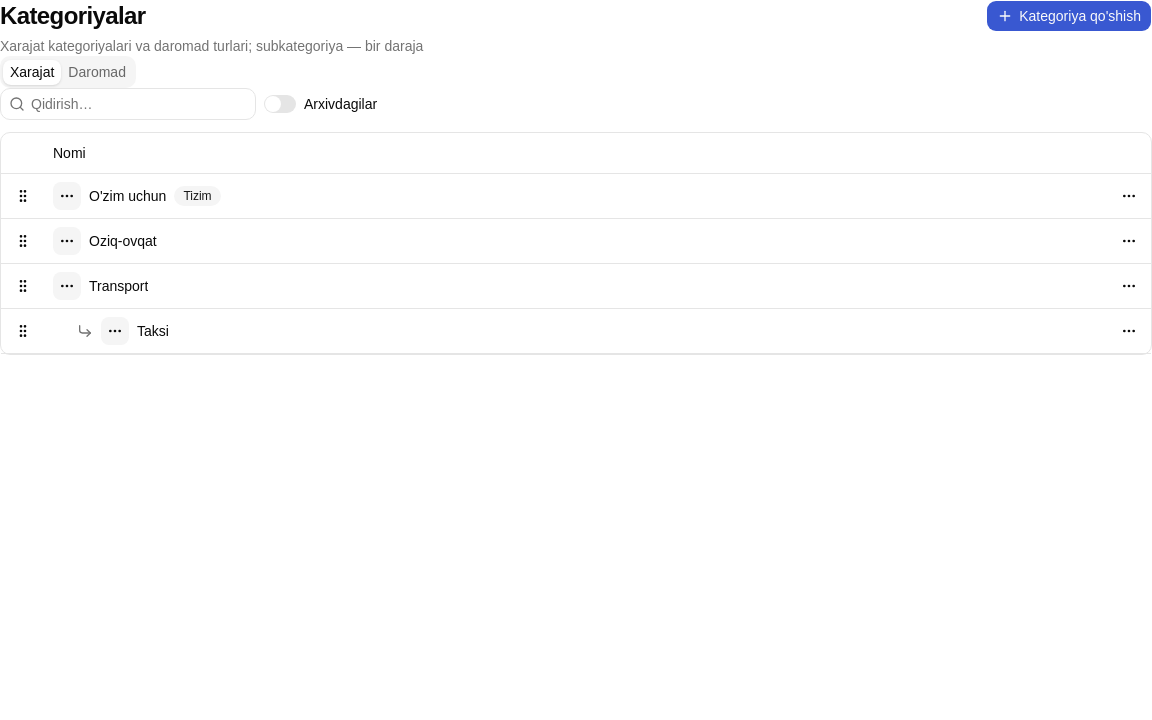
CategoriesPage (E22-T03) › birlashtirish (BR-036) — maqsad tanlanadi, natija xabarda
Click the button named "Taksi: amallar": click(1129, 330) left=1115, top=316, right=1143, bottom=344
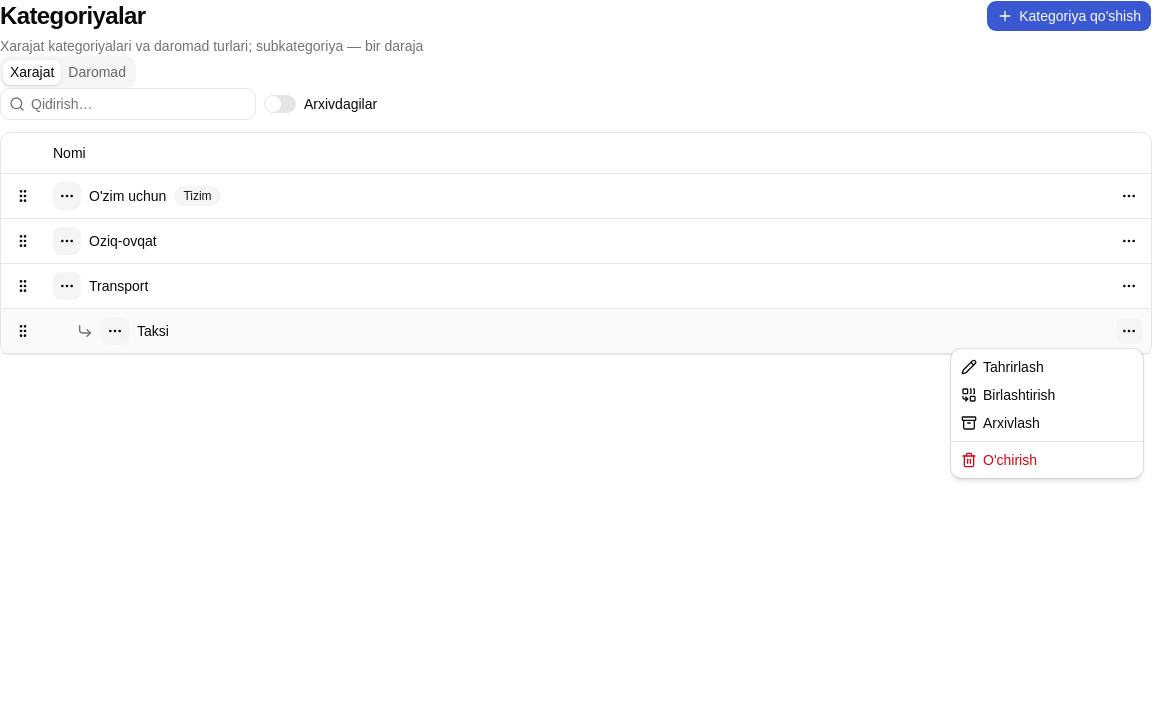
Click the menu item "Birlashtirish": click(1008, 395) left=961, top=387, right=1055, bottom=403
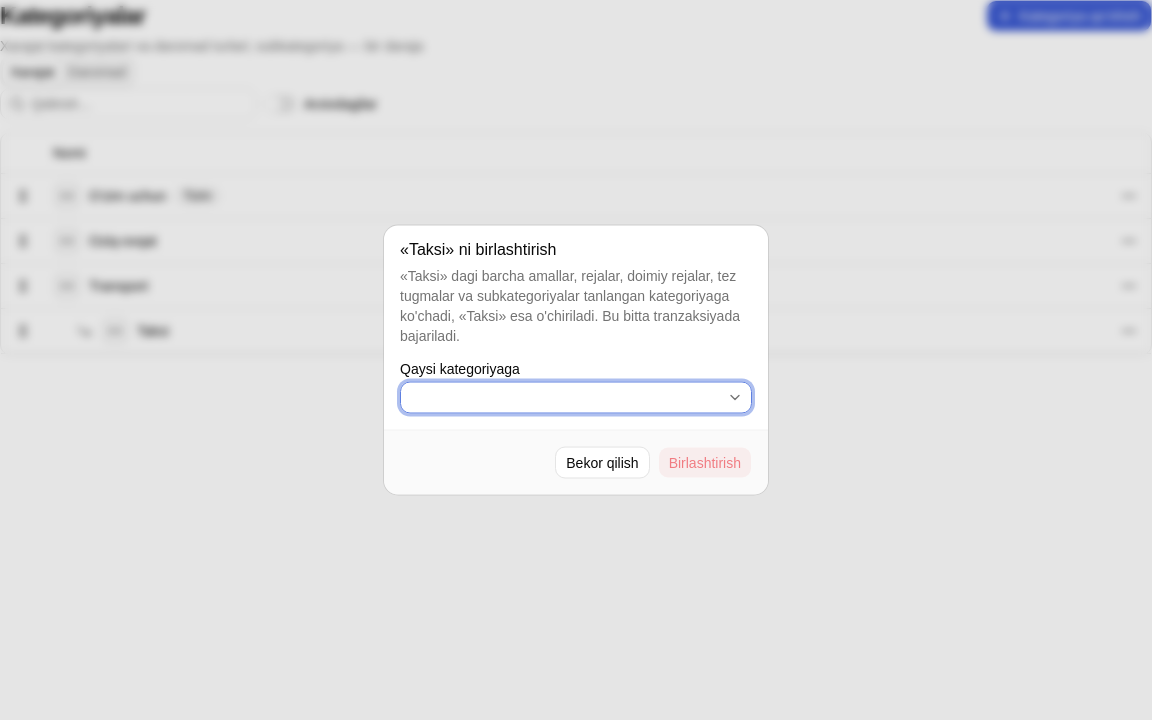
Click the dropdown named "Qaysi kategoriyaga": click(735, 398) left=400, top=382, right=752, bottom=414
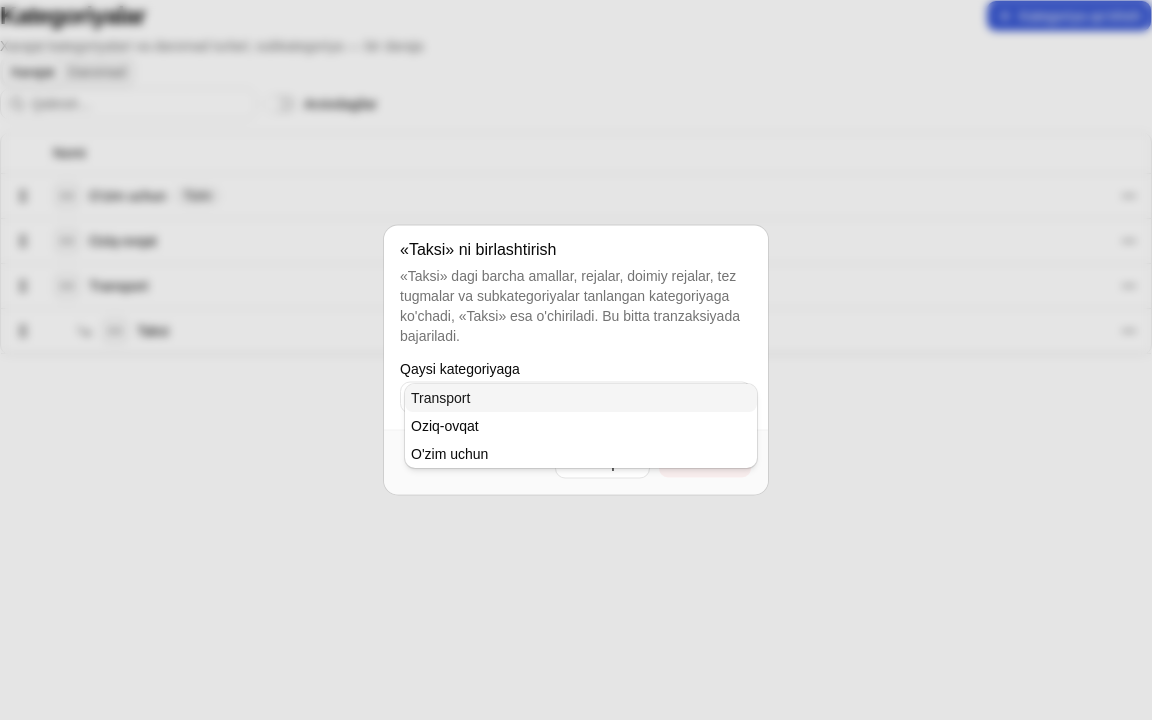
Click the option "Transport": click(441, 398) left=405, top=384, right=757, bottom=412
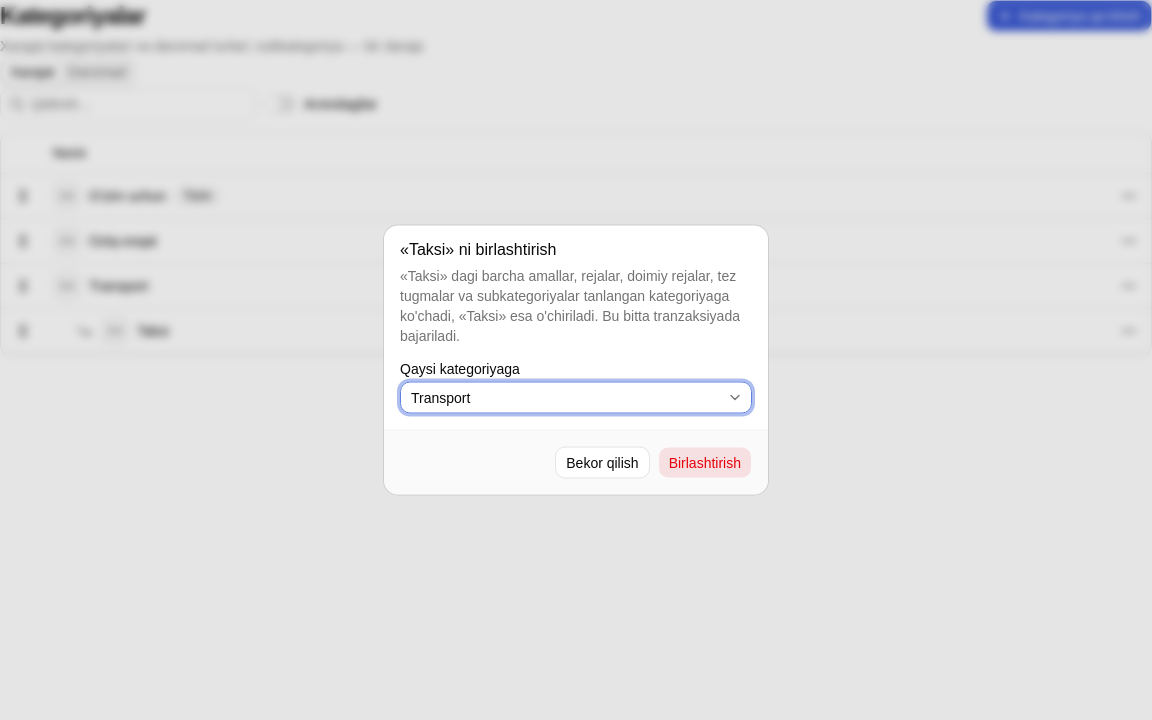
Click the button "Birlashtirish": click(705, 462) left=658, top=446, right=752, bottom=478
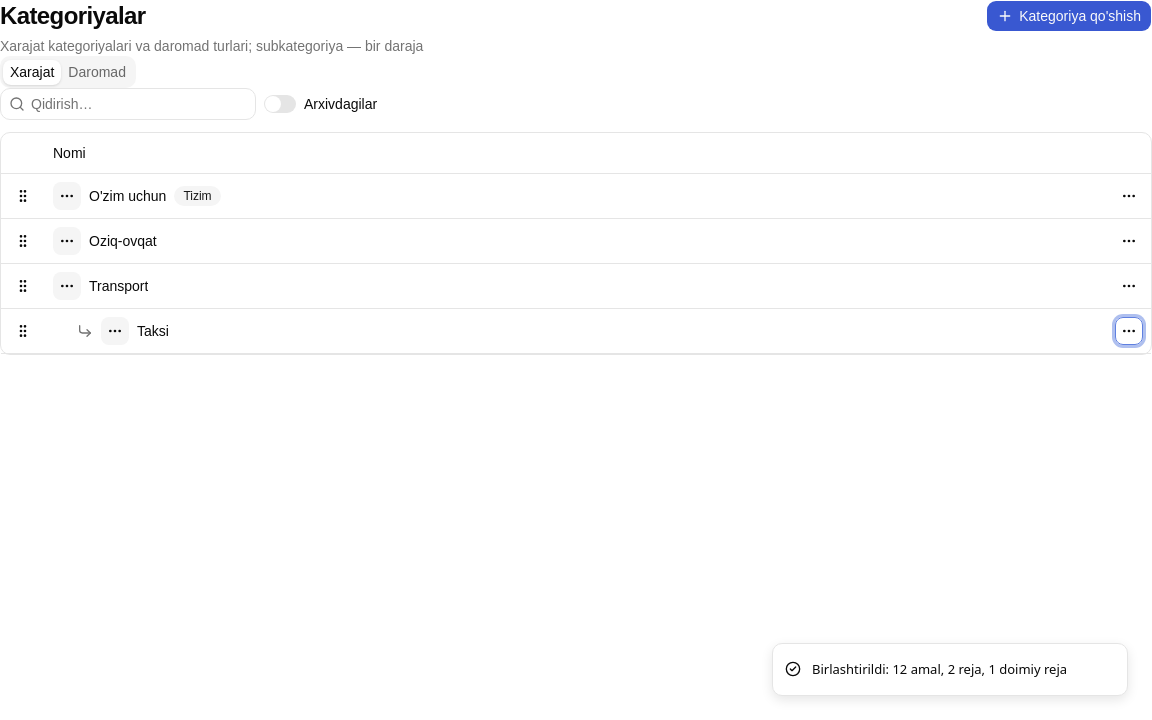
Expected: the text "Birlashtirildi: 12 amal, 2 reja, 1 doimiy reja" is shown, left=812, top=660, right=1067, bottom=679
